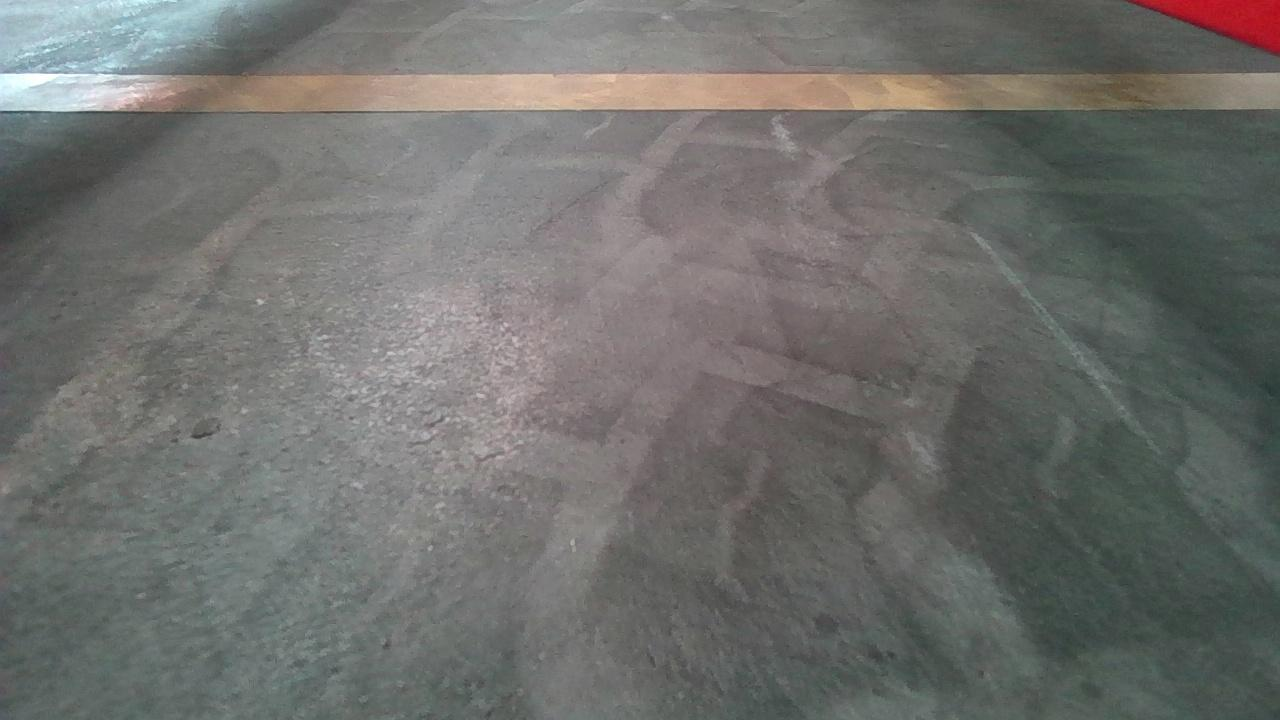h_rack: (1133, 0, 1280, 33)
yellow_line: (2, 71, 1271, 114)
